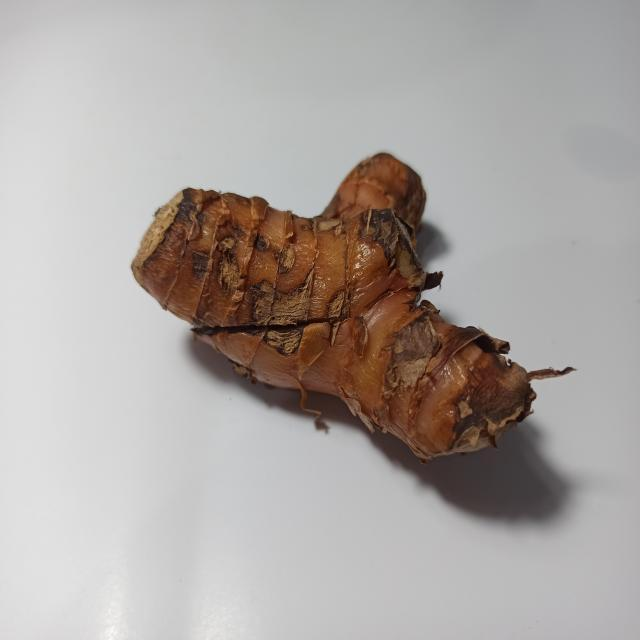ginger: (147, 153, 552, 431)
